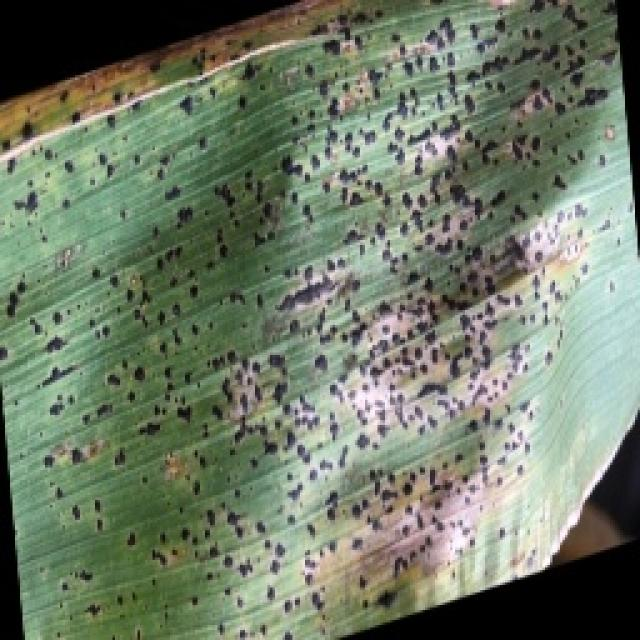Tar_Spot: (164, 90, 585, 516)
